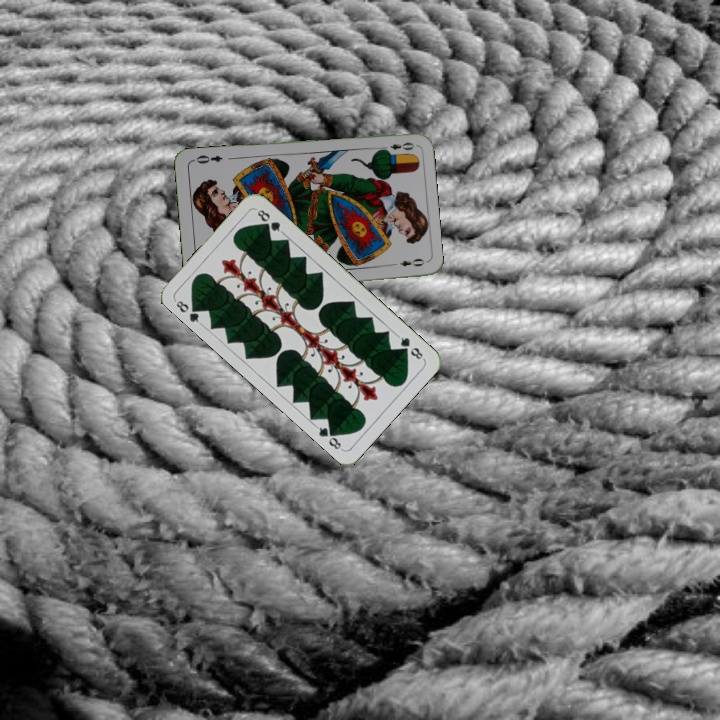EO: (377, 138, 417, 155)
G8: (171, 296, 204, 328), (393, 331, 427, 362)
